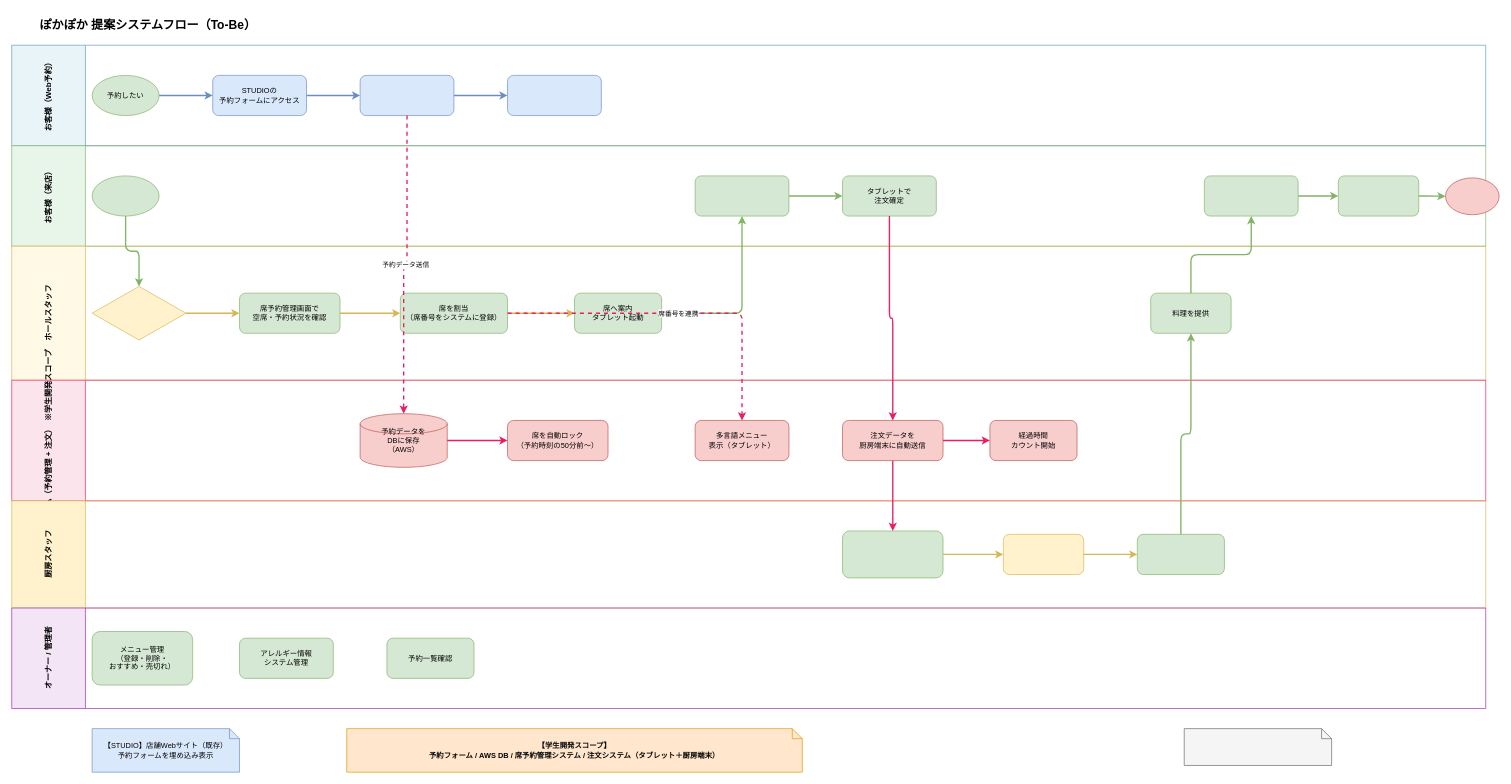
Image size: 1511x784. Some labels were removed from this diagram. Here are the shapes that lost their labels. From the top down, the centre of each, then its label:
At point 406,95: "日時・人数・名前・ 連絡先を入力して送信".
At point 554,95: "予約確認メール受信".
At point 125,195: "来店".
At point 741,195: "タブレットで 多言語メニューを見る".
At point 1251,195: "料理を受取る".
At point 1378,195: "会計 （POSレジ）".
At point 1472,196: "退店".
At point 138,313: "予約 or 新規？".
At point 892,554: "厨房端末で注文確認 （卓番・人数・内容・ 経過時間）".
At point 1043,554: "調理".
At point 1180,554: "完了ボタン押下".
At point 1258,746: "【対象外】会計はPOSレジで継続".
